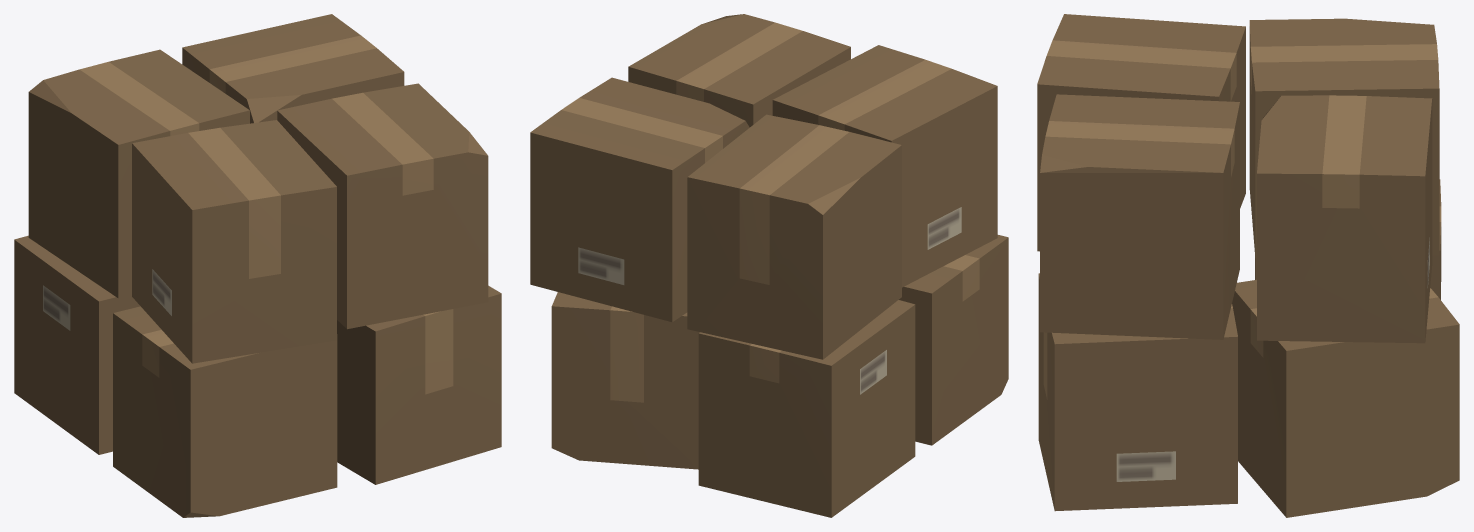
The model's file is SM_Gen_Prop_Cardboard_Box_Preset_01.obj.
The picture shows the model from 3 angles, left to right: view 1: azimuth 30°, elevation 25°; view 2: azimuth 150°, elevation 25°; view 3: azimuth 270°, elevation 25°; orthographic projection. The views are drawn at different scales.
Parts seen in each view (by area): view 1: SM_Gen_Prop_Cardboard_Box_Preset_01_0; view 2: SM_Gen_Prop_Cardboard_Box_Preset_01_0; view 3: SM_Gen_Prop_Cardboard_Box_Preset_01_0.
Boxes of the visible parts, x1=… form: SM_Gen_Prop_Cardboard_Box_Preset_01_0: x1=14, y1=14, x2=501, y2=517; SM_Gen_Prop_Cardboard_Box_Preset_01_0: x1=530, y1=14, x2=1008, y2=517; SM_Gen_Prop_Cardboard_Box_Preset_01_0: x1=1037, y1=14, x2=1459, y2=517.
Size of the model in its own units: 1.01 by 0.9167 by 1.04.
1 material, 1 textured.
